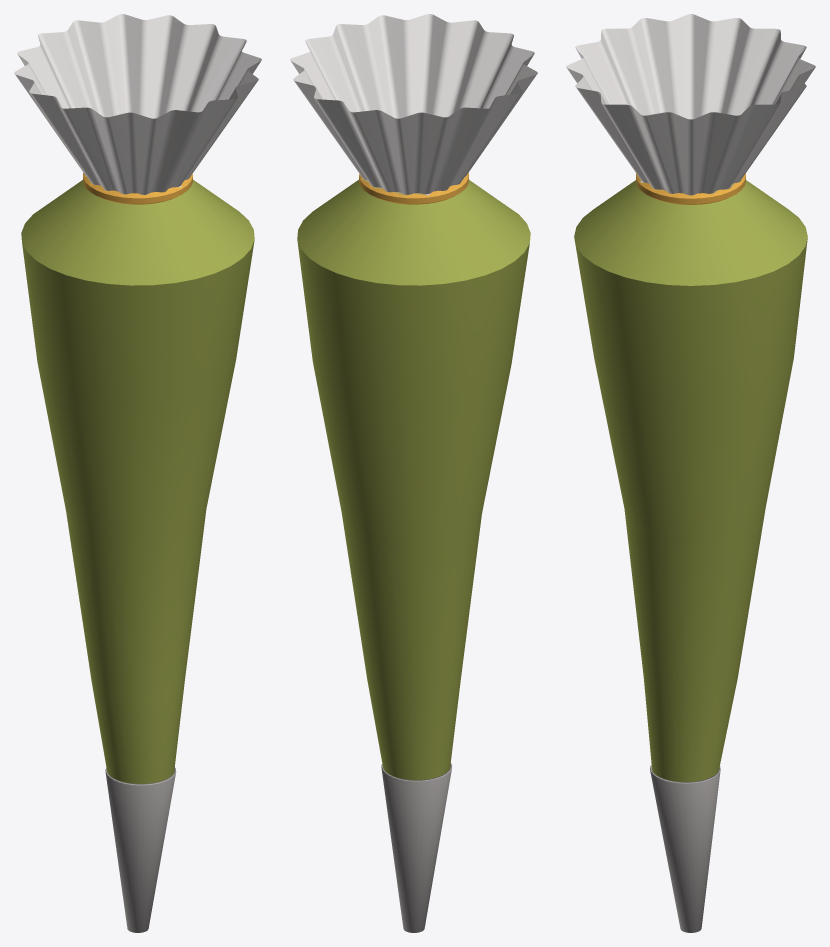
The model's file is matcha.fbx.
The picture shows the model from 3 angles, left to right: view 1: azimuth 30°, elevation 25°; view 2: azimuth 150°, elevation 25°; view 3: azimuth 270°, elevation 25°; orthographic projection.
Visible parts, largest first — view 1: Cylinder.001, Cylinder.002; view 2: Cylinder.001, Cylinder.002; view 3: Cylinder.001, Cylinder.002.
Boxes of the visible parts, x1,y1,x2,y2 form: Cylinder.001: (14,14,261,783); Cylinder.002: (105,767,176,932); Cylinder.001: (290,14,537,780); Cylinder.002: (381,763,452,932); Cylinder.001: (566,14,815,782); Cylinder.002: (650,765,720,932).
Bounding box in the file's own units: 111 × 421 × 111.
Materials: 1 (1 with a texture image).
